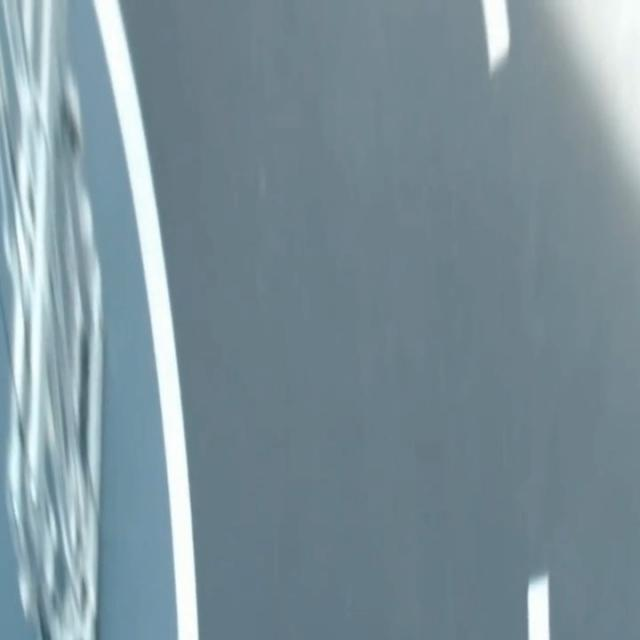center: (481, 0, 508, 74), (527, 575, 550, 639)
left: (93, 0, 198, 639)
